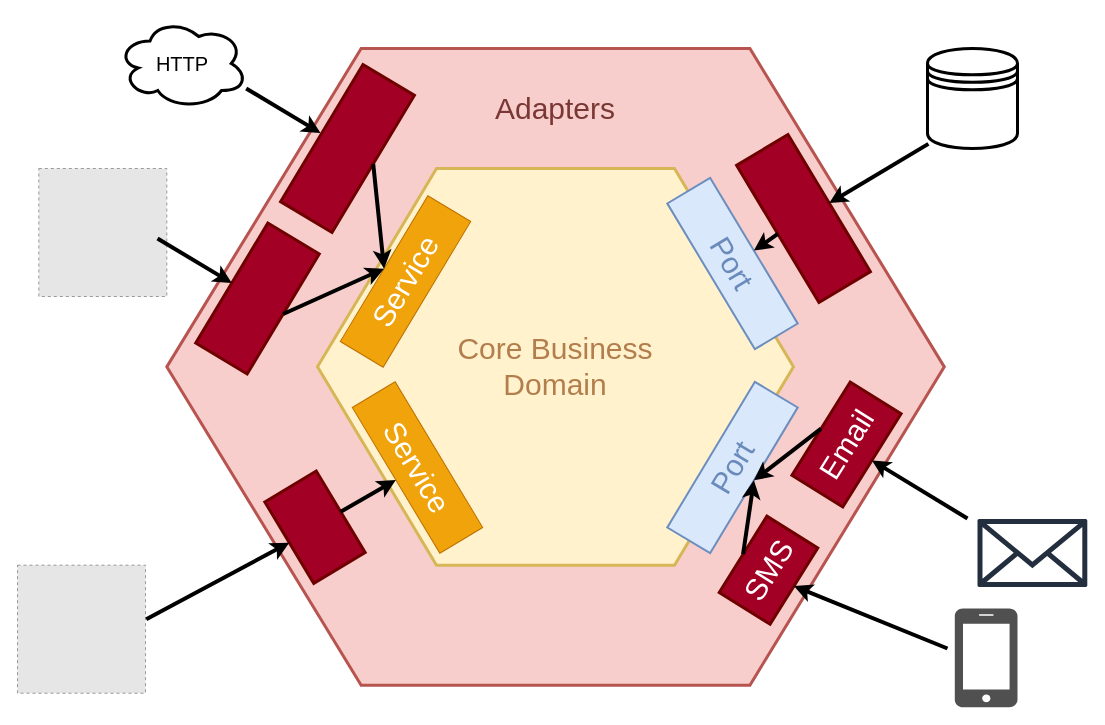
Some shapes in this 1105 by 725 pixel diagram are drawn without their labels. Grey dashed boxes stand in for pictures. The box of each missing label's shape, as (x1, y1, x2, y2) in pixels:
CLI: (262, 468, 367, 585)
Database: (734, 132, 872, 304)
REST API: (278, 62, 416, 234)
Web UI: (193, 220, 321, 376)
